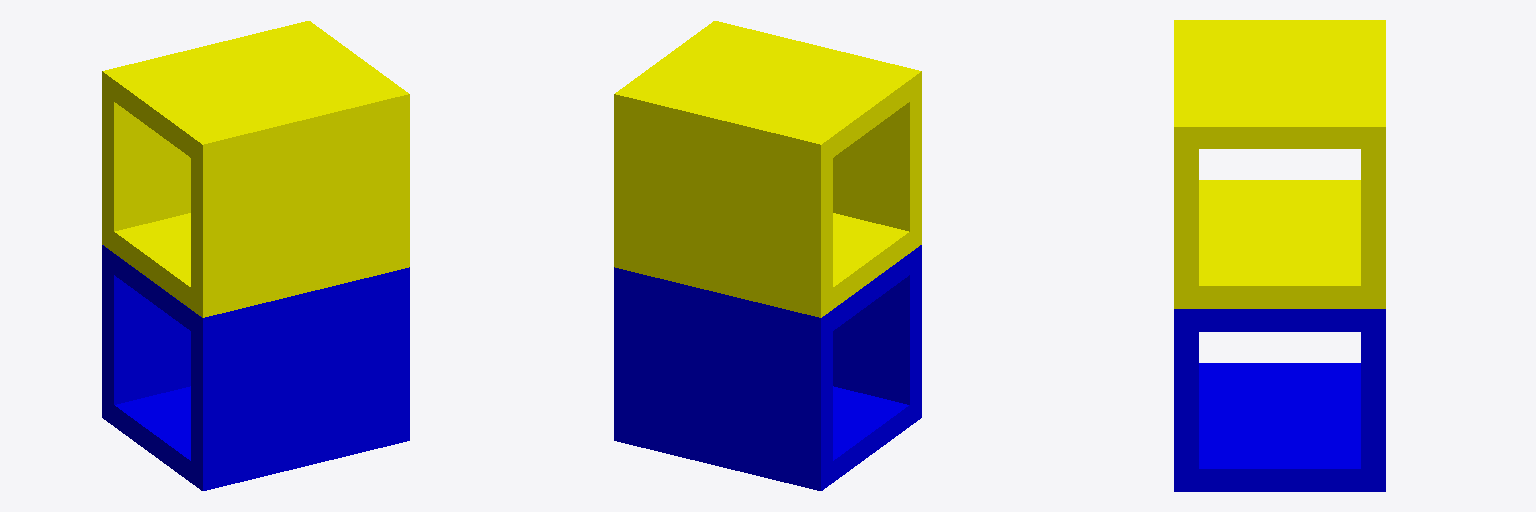
robot.urdf — irb2400_navigation_environment:
<?xml version="1.0" ?>
<!-- =================================================================================== -->
<!-- |    This document was autogenerated by xacro from urdf/irb2400_navigation_environment.xacro | -->
<!-- |    EDITING THIS FILE BY HAND IS NOT RECOMMENDED                                 | -->
<!-- =================================================================================== -->
<robot name="irb2400_navigation_environment" xmlns:xacro="http://ros.org/wiki/xacro">
  <description>
		Creates a window of specified dimensions using boxes
	</description>
  <description>
		Contains a series of material blocks with predefined colors that can be used
		in any visual element of a urdf model.
	</description>
  <description>
		Contains a series of material blocks with predefined colors that can be used
		in any visual element of a urdf model.
	</description>
  <!-- parameters -->
  <!-- instantiating windows -->
  <link name="window1_parent_frame"/>
  <link name="window1_top_link">
    <visual>
      <origin rpy="0 0 0" xyz="0 0.37 0"/>
      <geometry>
        <box size="0.8 0.1 1.0"/>
      </geometry>
      <material name="_blue_material">
        <color rgba="0 0 1 1"/>
      </material>
      <!--xacro:material_blue_block prefix="${name}"/-->
    </visual>
    <collision>
      <origin rpy="0 0 0" xyz="0 0.37 0"/>
      <geometry>
        <box size="0.8 0.1 1.0"/>
      </geometry>
      <material name="_red_material">
        <color rgba="1 0 0 1"/>
      </material>
      <!--xacro:material_red_block prefix="${name}"/-->
    </collision>
  </link>
  <joint name="window1_parent_frame_to_window1_top_link" type="fixed">
    <origin rpy="0 0 0" xyz="0 0 0"/>
    <parent link="window1_parent_frame"/>
    <child link="window1_top_link"/>
  </joint>
  <link name="window1_bottom_link">
    <visual>
      <origin rpy="0 0 0" xyz="0 -0.37 0"/>
      <geometry>
        <box size="0.8 0.1 1.0"/>
      </geometry>
      <material name="_blue_material">
        <color rgba="0 0 1 1"/>
      </material>
      <!--xacro:material_blue_block prefix="${name}"/-->
    </visual>
    <collision>
      <origin rpy="0 0 0" xyz="0 -0.37 0"/>
      <geometry>
        <box size="0.8 0.1 1.0"/>
      </geometry>
      <material name="_red_material">
        <color rgba="1 0 0 1"/>
      </material>
      <!--xacro:material_red_block prefix="${name}"/-->
    </collision>
  </link>
  <joint name="window1_parent_frame_to_window1_bottom_link" type="fixed">
    <origin rpy="0 0 0" xyz="0 0 0"/>
    <parent link="window1_parent_frame"/>
    <child link="window1_bottom_link"/>
  </joint>
  <link name="window1_left_link">
    <visual>
      <origin rpy="0 0 0" xyz="-0.35 0 0"/>
      <geometry>
        <box size="0.1 0.64 1.0"/>
      </geometry>
      <material name="_blue_material">
        <color rgba="0 0 1 1"/>
      </material>
      <!--xacro:material_blue_block prefix="${name}"/-->
    </visual>
    <collision>
      <origin rpy="0 0 0" xyz="-0.35 0 0"/>
      <geometry>
        <box size="0.1 0.64 1.0"/>
      </geometry>
      <material name="_red_material">
        <color rgba="1 0 0 1"/>
      </material>
      <!--xacro:material_red_block prefix="${name}"/-->
    </collision>
  </link>
  <joint name="window1_parent_frame_to_window1_left_link" type="fixed">
    <origin rpy="0 0 0" xyz="0 0 0"/>
    <parent link="window1_parent_frame"/>
    <child link="window1_left_link"/>
  </joint>
  <link name="window1_right_link">
    <visual>
      <origin rpy="0 0 0" xyz="0.35 0 0"/>
      <geometry>
        <box size="0.1 0.64 1.0"/>
      </geometry>
      <material name="_blue_material">
        <color rgba="0 0 1 1"/>
      </material>
      <!--xacro:material_blue_block prefix="${name}"/-->
    </visual>
    <collision>
      <origin rpy="0 0 0" xyz="0.35 0 0"/>
      <geometry>
        <box size="0.1 0.64 1.0"/>
      </geometry>
      <material name="_red_material">
        <color rgba="1 0 0 1"/>
      </material>
      <!--xacro:material_red_block prefix="${name}"/-->
    </collision>
  </link>
  <joint name="window1_parent_frame_to_window1_right_link" type="fixed">
    <origin rpy="0 0 0" xyz="0 0 0"/>
    <parent link="window1_parent_frame"/>
    <child link="window1_right_link"/>
  </joint>
  <!-- instantiating robots -->
  <link name="base_link">
    <visual>
      <origin rpy="0 0 0" xyz="0 0 0"/>
      <geometry>
        <mesh filename="package://abb_common/meshes/irb_2400/visual/base_link.STL"/>
      </geometry>
      <material name="abb_orange">
        <color rgba="1 0.43 0 1"/>
      </material>
    </visual>
    <collision>
      <geometry>
        <mesh filename="package://abb_common/meshes/irb_2400/collision/base_link.STL"/>
      </geometry>
      <material name="yellow">
        <color rgba="0 1 1 1"/>
      </material>
    </collision>
  </link>
  <link name="link_1">
    <visual>
      <origin rpy="0 0 0" xyz="0 0 0"/>
      <geometry>
        <mesh filename="package://abb_common/meshes/irb_2400/visual/link_1.STL"/>
      </geometry>
      <material name="abb_orange"/>
    </visual>
    <collision>
      <origin rpy="0 0 0" xyz="0 0 0"/>
      <geometry>
        <mesh filename="package://abb_common/meshes/irb_2400/collision/link_1.STL"/>
      </geometry>
      <material name="yellow"/>
    </collision>
  </link>
  <link name="link_2">
    <visual>
      <origin rpy="0 0 0" xyz="0 0 0"/>
      <geometry>
        <mesh filename="package://abb_common/meshes/irb_2400/visual/link_2.STL"/>
      </geometry>
      <material name="abb_orange"/>
    </visual>
    <collision>
      <origin rpy="0 0 0" xyz="0 0 0"/>
      <geometry>
        <mesh filename="package://abb_common/meshes/irb_2400/collision/link_2_whole.STL"/>
      </geometry>
      <material name="yellow"/>
    </collision>
  </link>
  <link name="link_3">
    <visual>
      <origin rpy="0 0 0" xyz="0 0 0"/>
      <geometry>
        <mesh filename="package://abb_common/meshes/irb_2400/visual/link_3.STL"/>
      </geometry>
      <material name="abb_orange"/>
    </visual>
    <collision>
      <origin rpy="0 0 0" xyz="0 0 0"/>
      <geometry>
        <mesh filename="package://abb_common/meshes/irb_2400/collision/link_3.STL"/>
      </geometry>
      <material name="yellow"/>
    </collision>
  </link>
  <link name="link_4">
    <visual>
      <origin rpy="0 0 0" xyz="0 0 0"/>
      <geometry>
        <mesh filename="package://abb_common/meshes/irb_2400/visual/link_4.STL"/>
      </geometry>
      <material name="abb_orange"/>
    </visual>
    <collision>
      <origin rpy="0 0 0" xyz="0 0 0"/>
      <geometry>
        <mesh filename="package://abb_common/meshes/irb_2400/collision/link_4.STL"/>
      </geometry>
      <material name="yellow"/>
    </collision>
  </link>
  <link name="link_5">
    <visual>
      <origin rpy="0 0 0" xyz="0 0 0"/>
      <geometry>
        <mesh filename="package://abb_common/meshes/irb_2400/visual/link_5.STL"/>
      </geometry>
      <material name="abb_orange"/>
    </visual>
    <collision>
      <origin rpy="0 0 0" xyz="0 0 0"/>
      <geometry>
        <mesh filename="package://abb_common/meshes/irb_2400/collision/link_5.STL"/>
      </geometry>
      <material name="yellow"/>
    </collision>
  </link>
  <link name="link_6">
    <visual>
      <origin rpy="0 0 0" xyz="0 0 0"/>
      <geometry>
        <mesh filename="package://abb_common/meshes/irb_2400/visual/link_6.STL"/>
      </geometry>
      <material name="abb_orange"/>
    </visual>
    <collision>
      <origin rpy="0 0 0" xyz="0 0 0"/>
      <geometry>
        <mesh filename="package://abb_common/meshes/irb_2400/collision/link_6.STL"/>
      </geometry>
      <material name="yellow"/>
    </collision>
  </link>
  <link name="tool0"/>
  <joint name="joint_1" type="revolute">
    <origin rpy="0 0 0" xyz="0 0 0"/>
    <parent link="base_link"/>
    <child link="link_1"/>
    <axis xyz="0 0 1"/>
    <limit effort="0" lower="-3.1416" upper="3.1416" velocity="2.618"/>
    <calibration falling="0" rising="0"/>
    <dynamics damping="0" friction="0"/>
  </joint>
  <joint name="joint_2" type="revolute">
    <origin rpy="0 0 0" xyz="0.1 0 0.615"/>
    <parent link="link_1"/>
    <child link="link_2"/>
    <axis xyz="0 1 0"/>
    <limit effort="0" lower="-1.7453" upper="1.9199" velocity="2.618"/>
    <calibration falling="0" rising="0"/>
    <dynamics damping="0" friction="0"/>
  </joint>
  <joint name="joint_3" type="revolute">
    <origin rpy="0 0 0" xyz="0 0 0.705"/>
    <parent link="link_2"/>
    <child link="link_3"/>
    <axis xyz="0 1 0"/>
    <limit effort="0" lower="-1.0472" upper="1.1345" velocity="2.618"/>
    <calibration falling="0" rising="0"/>
    <dynamics damping="0" friction="0"/>
  </joint>
  <joint name="joint_4" type="revolute">
    <origin rpy="0 0 0" xyz="0.258 0 0.135"/>
    <parent link="link_3"/>
    <child link="link_4"/>
    <axis xyz="1 0 0"/>
    <limit effort="0" lower="-3.49" upper="3.49" velocity="6.2832"/>
    <calibration falling="0" rising="0"/>
    <dynamics damping="0" friction="0"/>
  </joint>
  <joint name="joint_5" type="revolute">
    <origin rpy="0 0 0" xyz="0.497 0 0"/>
    <parent link="link_4"/>
    <child link="link_5"/>
    <axis xyz="0 1 0"/>
    <limit effort="0" lower="-2.0944" upper="2.0944" velocity="6.2832"/>
    <calibration falling="0" rising="0"/>
    <dynamics damping="0" friction="0"/>
  </joint>
  <joint name="joint_6" type="revolute">
    <origin rpy="0 0 0" xyz="0.085 0 0"/>
    <parent link="link_5"/>
    <child link="link_6"/>
    <axis xyz="1 0 0"/>
    <limit effort="0" lower="-6.9813" upper="6.9813" velocity="7.854"/>
    <calibration falling="0" rising="0"/>
    <dynamics damping="0" friction="0"/>
  </joint>
  <joint name="joint_6-tool0" type="fixed">
    <parent link="link_6"/>
    <child link="tool0"/>
    <origin rpy="0 0 0" xyz="0 0 0"/>
  </joint>
  <link name="gripper_palm">
    <visual>
      <geometry>
        <mesh filename="package://robotiq_s_model_visualization/meshes/s-model/visual/GRIPPER_OPEN_PALM.stl"/>
      </geometry>
      <material name="green">
        <color rgba="0 1 0 1"/>
      </material>
    </visual>
    <collision>
      <geometry>
        <mesh filename="package://robotiq_s_model_visualization/meshes/s-model/collision/GRIPPER_OPEN_PALM.stl"/>
      </geometry>
      <material name="yellow">
        <color rgba="0 1 1 1"/>
      </material>
    </collision>
  </link>
  <link name="gripper_finger_1">
    <visual>
      <geometry>
        <mesh filename="package://robotiq_s_model_visualization/meshes/s-model/visual/GRIPPER_OPEN_FINGER_1.stl"/>
      </geometry>
      <material name="green"/>
    </visual>
    <collision>
      <geometry>
        <mesh filename="package://robotiq_s_model_visualization/meshes/s-model/collision/GRIPPER_OPEN_FINGER_1.stl"/>
      </geometry>
      <material name="yellow"/>
    </collision>
  </link>
  <link name="gripper_finger_2">
    <visual>
      <geometry>
        <mesh filename="package://robotiq_s_model_visualization/meshes/s-model/visual/GRIPPER_OPEN_FINGER_2.stl"/>
      </geometry>
      <material name="green"/>
    </visual>
    <collision>
      <geometry>
        <mesh filename="package://robotiq_s_model_visualization/meshes/s-model/collision/GRIPPER_OPEN_FINGER_2.stl"/>
      </geometry>
      <material name="yellow"/>
    </collision>
  </link>
  <link name="gripper_finger_3">
    <visual>
      <geometry>
        <mesh filename="package://robotiq_s_model_visualization/meshes/s-model/visual/GRIPPER_OPEN_FINGER_3.stl"/>
      </geometry>
      <material name="green"/>
    </visual>
    <collision>
      <geometry>
        <mesh filename="package://robotiq_s_model_visualization/meshes/s-model/collision/GRIPPER_OPEN_FINGER_3.stl"/>
      </geometry>
      <material name="yellow"/>
    </collision>
  </link>
  <joint name="gripper_joint_1" type="fixed">
    <parent link="gripper_palm"/>
    <child link="gripper_finger_1"/>
    <origin rpy="0 0 0" xyz="0 0 0"/>
  </joint>
  <joint name="gripper_joint_2" type="fixed">
    <parent link="gripper_palm"/>
    <child link="gripper_finger_2"/>
    <origin rpy="0 0 0" xyz="0 0 0"/>
  </joint>
  <joint name="gripper_joint_3" type="fixed">
    <parent link="gripper_palm"/>
    <child link="gripper_finger_3"/>
    <origin rpy="0 0 0" xyz="0 0 0"/>
  </joint>
  <link name="window2_parent_frame"/>
  <link name="window2_top_link">
    <visual>
      <origin rpy="0 0 0" xyz="0 0.37 0"/>
      <geometry>
        <box size="0.8 0.1 1.0"/>
      </geometry>
      <material name="_yellow_material">
        <color rgba="1 1 0 1"/>
      </material>
      <!--xacro:material_blue_block prefix="${name}"/-->
    </visual>
    <collision>
      <origin rpy="0 0 0" xyz="0 0.37 0"/>
      <geometry>
        <box size="0.8 0.1 1.0"/>
      </geometry>
      <material name="_red_material">
        <color rgba="1 0 0 1"/>
      </material>
      <!--xacro:material_red_block prefix="${name}"/-->
    </collision>
  </link>
  <joint name="window2_parent_frame_to_window2_top_link" type="fixed">
    <origin rpy="0 0 0" xyz="0 0 0"/>
    <parent link="window2_parent_frame"/>
    <child link="window2_top_link"/>
  </joint>
  <link name="window2_bottom_link">
    <visual>
      <origin rpy="0 0 0" xyz="0 -0.37 0"/>
      <geometry>
        <box size="0.8 0.1 1.0"/>
      </geometry>
      <material name="_yellow_material">
        <color rgba="1 1 0 1"/>
      </material>
      <!--xacro:material_blue_block prefix="${name}"/-->
    </visual>
    <collision>
      <origin rpy="0 0 0" xyz="0 -0.37 0"/>
      <geometry>
        <box size="0.8 0.1 1.0"/>
      </geometry>
      <material name="_red_material">
        <color rgba="1 0 0 1"/>
      </material>
      <!--xacro:material_red_block prefix="${name}"/-->
    </collision>
  </link>
  <joint name="window2_parent_frame_to_window2_bottom_link" type="fixed">
    <origin rpy="0 0 0" xyz="0 0 0"/>
    <parent link="window2_parent_frame"/>
    <child link="window2_bottom_link"/>
  </joint>
  <link name="window2_left_link">
    <visual>
      <origin rpy="0 0 0" xyz="-0.35 0 0"/>
      <geometry>
        <box size="0.1 0.64 1.0"/>
      </geometry>
      <material name="_yellow_material">
        <color rgba="1 1 0 1"/>
      </material>
      <!--xacro:material_blue_block prefix="${name}"/-->
    </visual>
    <collision>
      <origin rpy="0 0 0" xyz="-0.35 0 0"/>
      <geometry>
        <box size="0.1 0.64 1.0"/>
      </geometry>
      <material name="_red_material">
        <color rgba="1 0 0 1"/>
      </material>
      <!--xacro:material_red_block prefix="${name}"/-->
    </collision>
  </link>
  <joint name="window2_parent_frame_to_window2_left_link" type="fixed">
    <origin rpy="0 0 0" xyz="0 0 0"/>
    <parent link="window2_parent_frame"/>
    <child link="window2_left_link"/>
  </joint>
  <link name="window2_right_link">
    <visual>
      <origin rpy="0 0 0" xyz="0.35 0 0"/>
      <geometry>
        <box size="0.1 0.64 1.0"/>
      </geometry>
      <material name="_yellow_material">
        <color rgba="1 1 0 1"/>
      </material>
      <!--xacro:material_blue_block prefix="${name}"/-->
    </visual>
    <collision>
      <origin rpy="0 0 0" xyz="0.35 0 0"/>
      <geometry>
        <box size="0.1 0.64 1.0"/>
      </geometry>
      <material name="_red_material">
        <color rgba="1 0 0 1"/>
      </material>
      <!--xacro:material_red_block prefix="${name}"/-->
    </collision>
  </link>
  <joint name="window2_parent_frame_to_window2_right_link" type="fixed">
    <origin rpy="0 0 0" xyz="0 0 0"/>
    <parent link="window2_parent_frame"/>
    <child link="window2_right_link"/>
  </joint>
  <!-- link definitions -->
  <link name="world_frame"/>
  <!-- joint  definitions -->
  <joint name="world_to_window1" type="fixed">
    <origin rpy="0 1.57 0" xyz="2.0 0 0.4"/>
    <parent link="world_frame"/>
    <child link="window1_parent_frame"/>
  </joint>
  <joint name="world_to_window2" type="fixed">
    <origin rpy="0 1.57 0" xyz="2.0 0 1.2"/>
    <parent link="world_frame"/>
    <child link="window2_parent_frame"/>
  </joint>
  <joint name="world_to_robot_base" type="fixed">
    <origin rpy="0 0 0" xyz="0 0 0"/>
    <parent link="world_frame"/>
    <child link="base_link"/>
  </joint>
  <joint name="wrist_to_gripper" type="fixed">
    <origin rpy="0 1.57 0" xyz="0.16 0 0"/>
    <parent link="tool0"/>
    <child link="gripper_palm"/>
  </joint>
</robot>

--- Render facts (derived) ---
The picture shows the robot from 3 angles, left to right: view 1: azimuth 30°, elevation 25°; view 2: azimuth 150°, elevation 25°; view 3: azimuth 270°, elevation 25°; orthographic projection.
Robot: irb2400_navigation_environment — 23 links, 22 joints (6 revolute, 16 fixed); root link world_frame; default pose: every joint at zero.
Visible links, largest first — view 1: window2_bottom_link, window1_bottom_link, window2_left_link, window2_top_link, window1_top_link, window2_right_link, window1_right_link, window1_left_link; view 2: window2_top_link, window1_top_link, window2_left_link, window2_bottom_link, window1_bottom_link, window2_right_link, window1_right_link, window1_left_link; view 3: window1_right_link, window2_left_link, window2_right_link, window2_top_link, window2_bottom_link, window1_top_link, window1_bottom_link, window1_left_link.
Boxes of the visible links, x1=… form: window2_bottom_link: x1=191, y1=85, x2=409, y2=317; window1_bottom_link: x1=191, y1=267, x2=409, y2=490; window2_left_link: x1=114, y1=29, x2=396, y2=157; window2_top_link: x1=102, y1=21, x2=319, y2=252; window1_top_link: x1=102, y1=245, x2=190, y2=425; window2_right_link: x1=114, y1=213, x2=190, y2=308; window1_right_link: x1=114, y1=386, x2=190, y2=482; window1_left_link: x1=114, y1=254, x2=190, y2=330; window2_top_link: x1=614, y1=85, x2=832, y2=317; window1_top_link: x1=614, y1=267, x2=832, y2=490; window2_left_link: x1=627, y1=29, x2=909, y2=157; window2_bottom_link: x1=704, y1=21, x2=921, y2=252; window1_bottom_link: x1=833, y1=245, x2=921, y2=425; window2_right_link: x1=833, y1=213, x2=909, y2=308; window1_right_link: x1=833, y1=386, x2=909, y2=482; window1_left_link: x1=833, y1=254, x2=909, y2=330; window1_right_link: x1=1199, y1=363, x2=1360, y2=491; window2_left_link: x1=1199, y1=20, x2=1360, y2=148; window2_right_link: x1=1199, y1=180, x2=1360, y2=308; window2_top_link: x1=1361, y1=20, x2=1385, y2=308; window2_bottom_link: x1=1174, y1=20, x2=1198, y2=308; window1_top_link: x1=1361, y1=309, x2=1385, y2=491; window1_bottom_link: x1=1174, y1=309, x2=1198, y2=491; window1_left_link: x1=1199, y1=309, x2=1360, y2=331.
Bounding box of the posed robot: 1 × 0.84 × 1.6 m (x, y, z).
Meshes: 11 distinct files referenced, 0 mesh visuals loaded (none loaded); not drawn: 11 (reference not matched to a file when rendering).